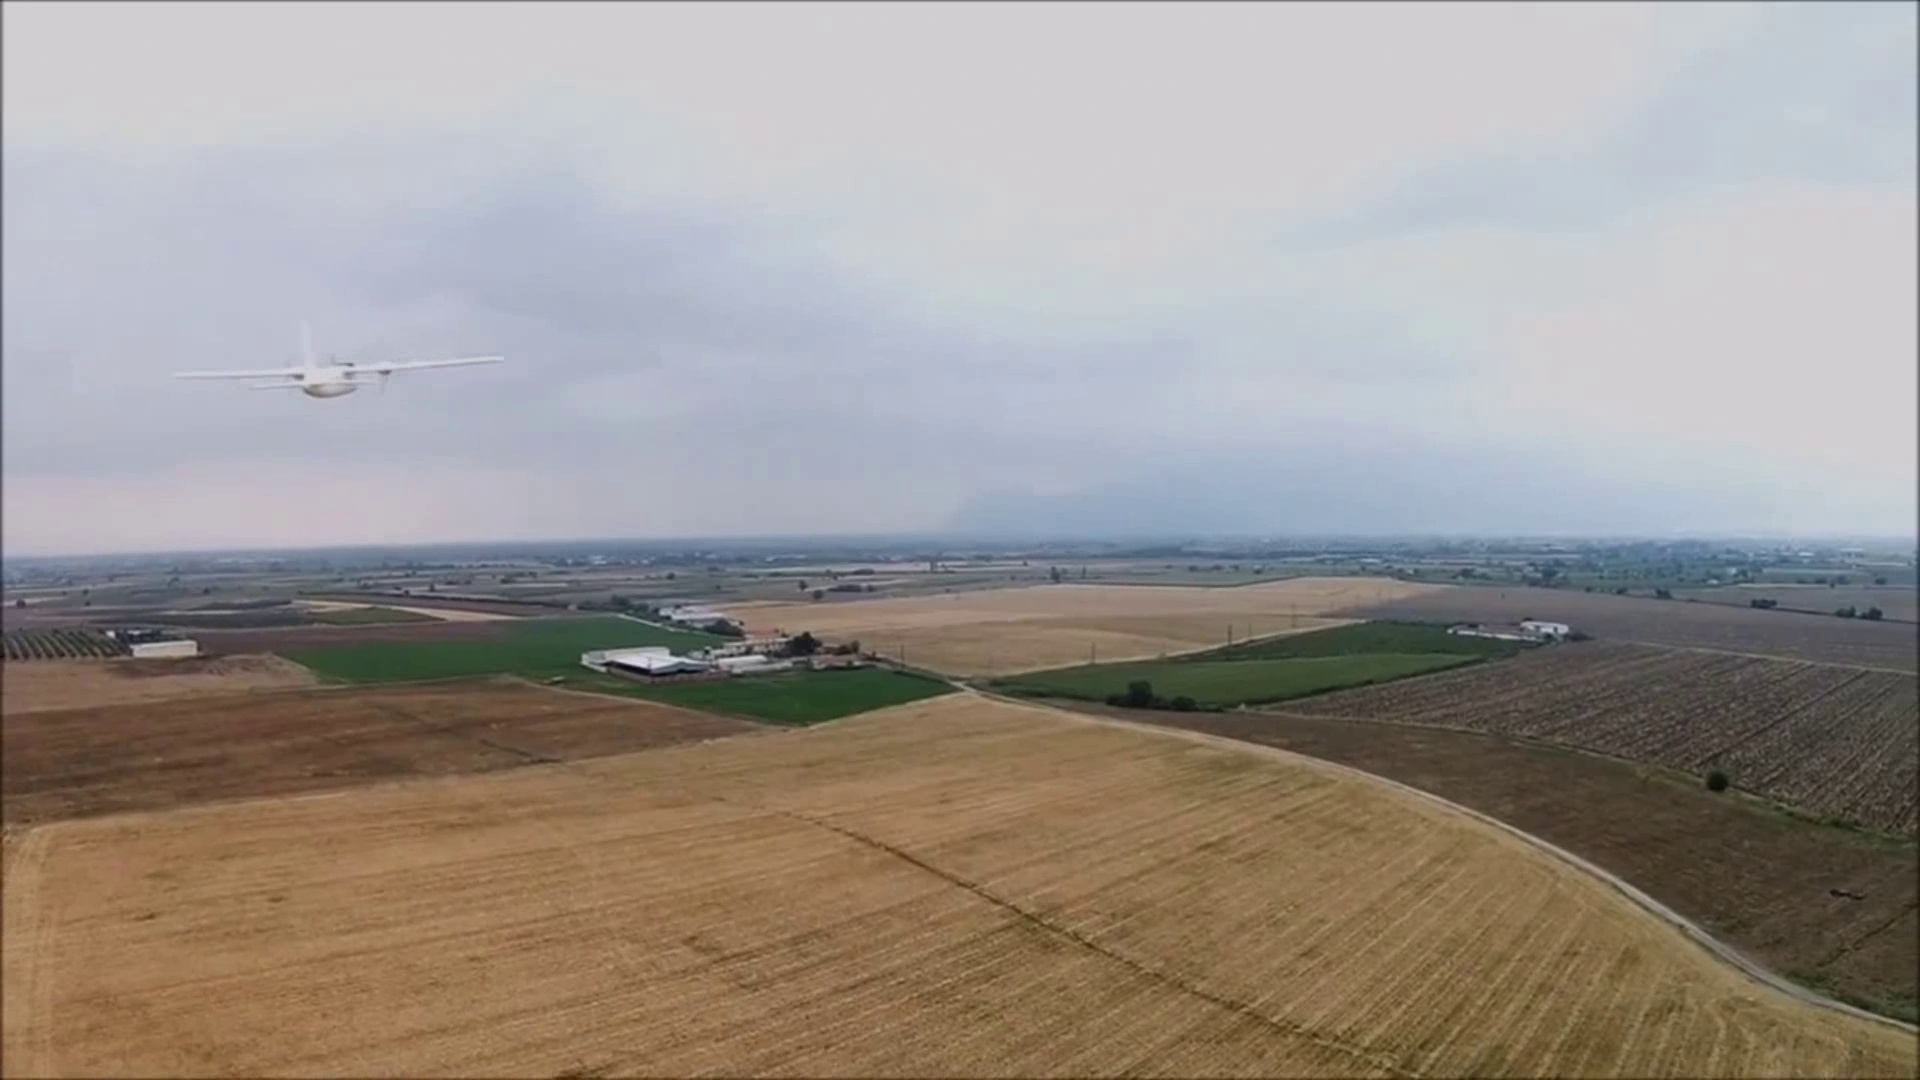airplane: (173, 321, 505, 399)
